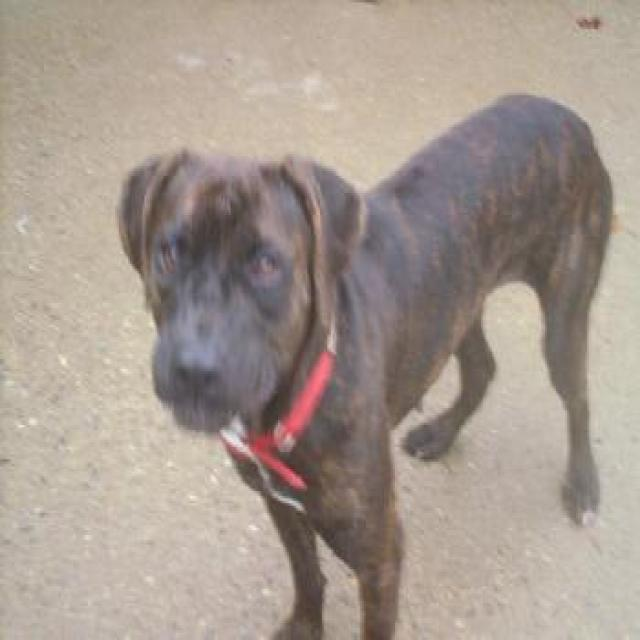Dogs: (115, 88, 618, 637)
